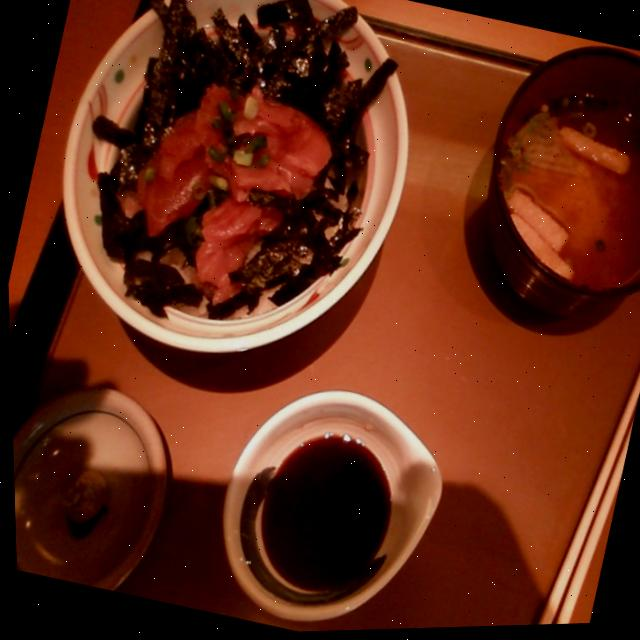刺身生食: (31, 0, 426, 395)
汤锅炖物: (440, 35, 640, 323)
